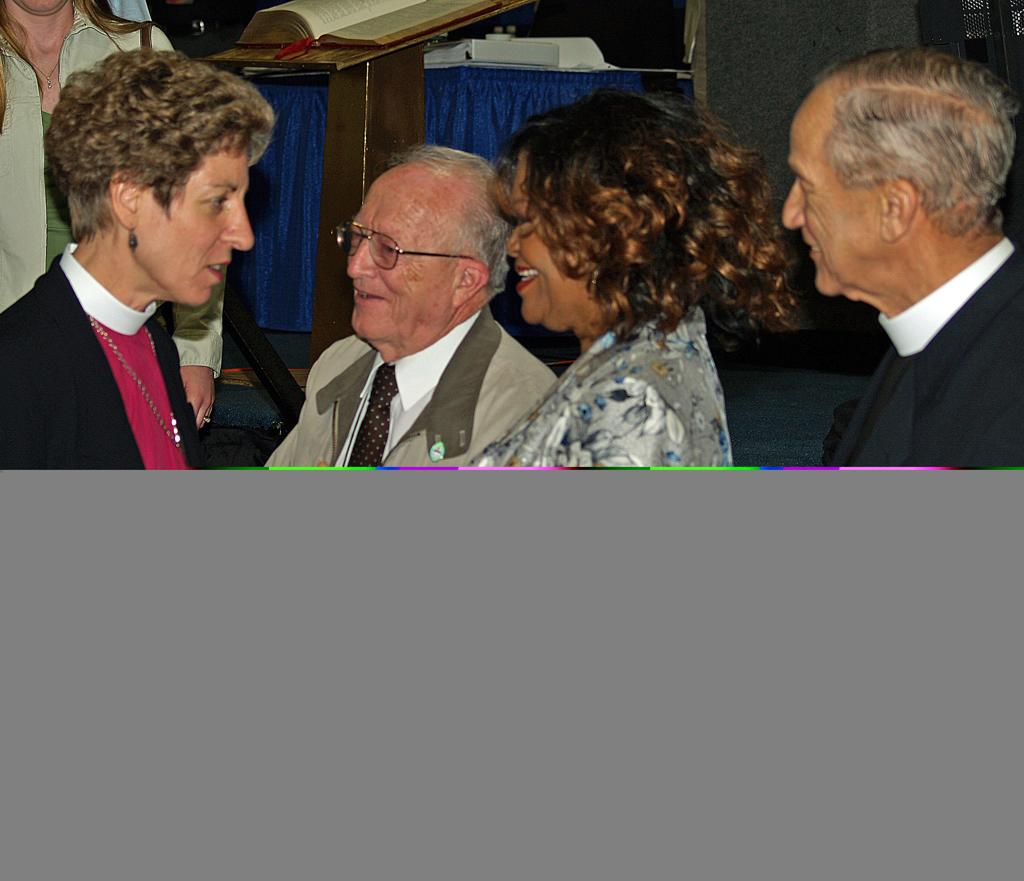face: (134, 136, 256, 310), (782, 94, 882, 294), (348, 166, 458, 332), (506, 144, 600, 322)
